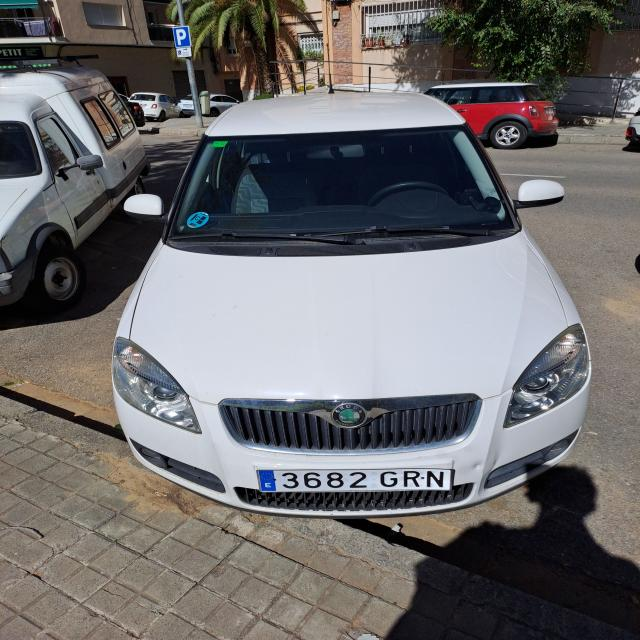license_plate-34Td: (258, 469, 454, 492)
